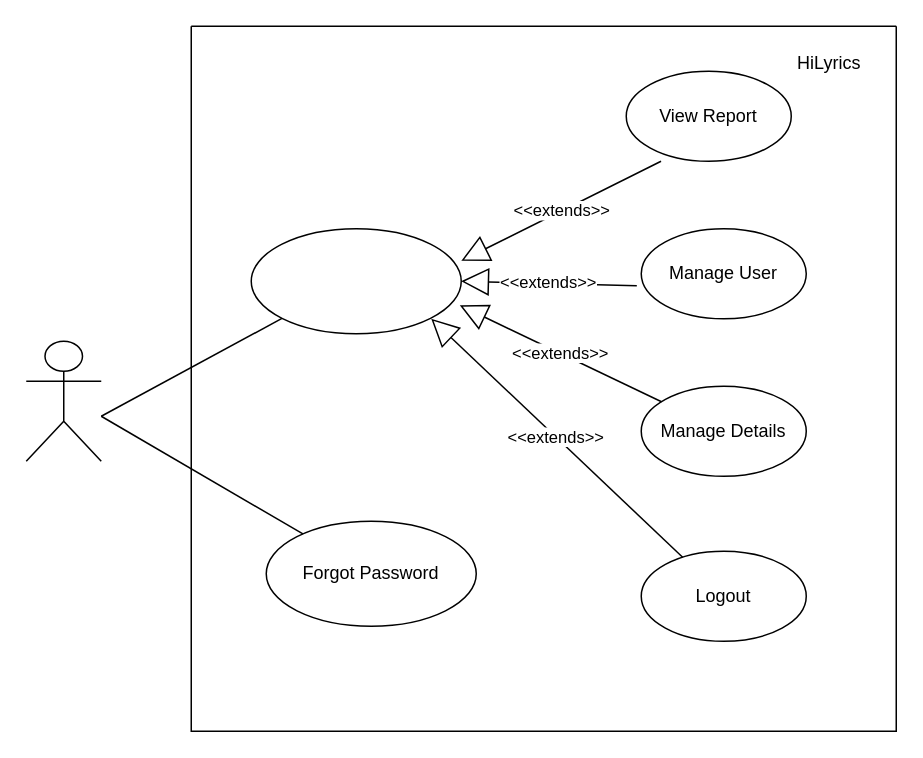
Image size: 923x758. Some labels were removed from this diagram. The shapes that lost their labels are listed below. From the top down, each one's centre as x and y in pixels, then its label:
At (x=355, y=280): "Login".
At (x=63, y=400): "Admin".
